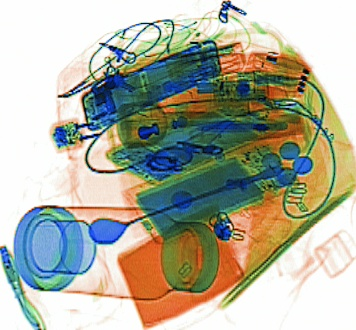powerbank: (81, 38, 221, 132)
